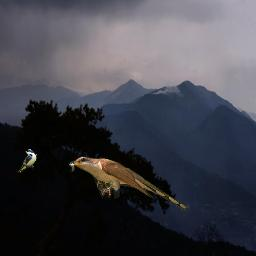Cuckoo: (67, 156, 189, 210)
Swallow: (18, 149, 37, 173)
